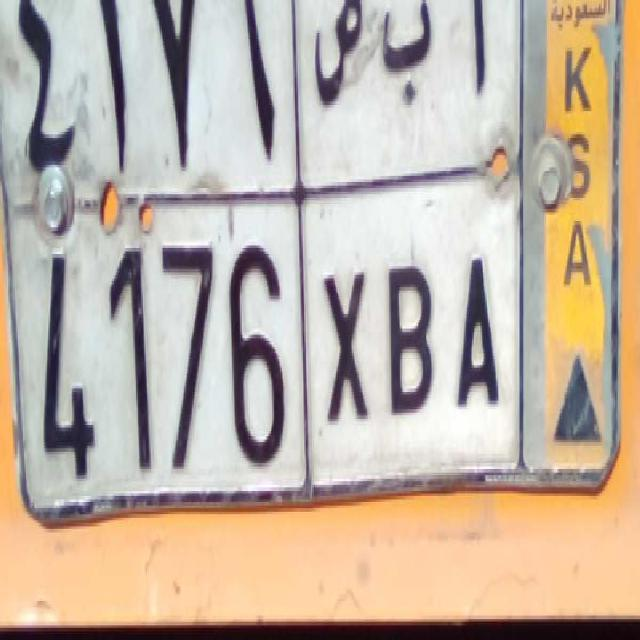license_plate: (4, 183, 520, 509)
